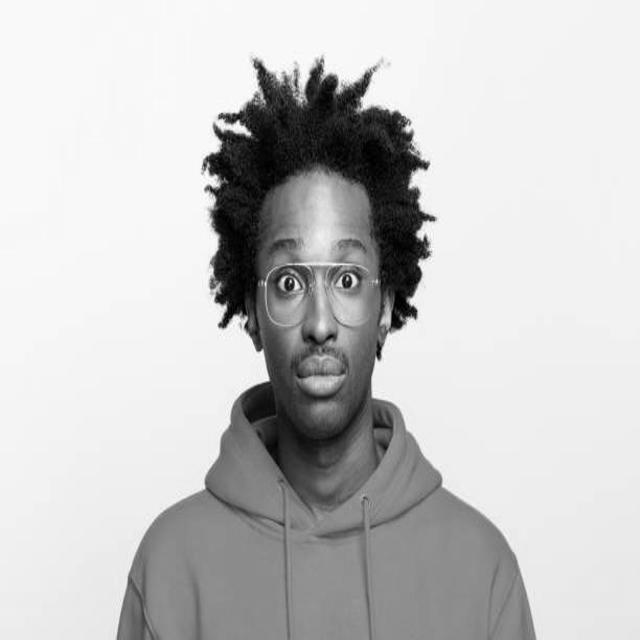Surprised: (250, 162, 386, 436)
